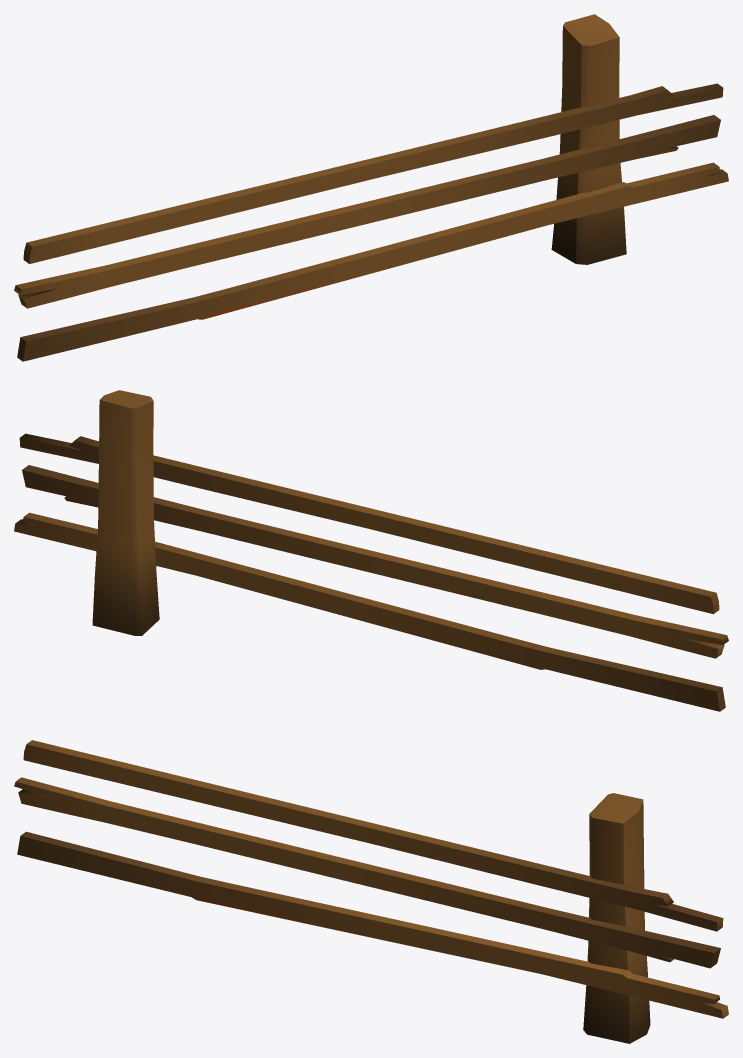
Rendered from RoadFenceWood_Lrg-02.FBX.
The picture shows the model from 3 angles, top to bottom: view 1: azimuth 30°, elevation 25°; view 2: azimuth 150°, elevation 25°; view 3: azimuth 330°, elevation 25°; orthographic projection.
Parts seen in each view (by area): view 1: RoadFenceWood_Lrg-02; view 2: RoadFenceWood_Lrg-02; view 3: RoadFenceWood_Lrg-02.
Part boxes in pixels (x1,y1,x2,y2): RoadFenceWood_Lrg-02: (14,14,728,361); RoadFenceWood_Lrg-02: (14,390,728,711); RoadFenceWood_Lrg-02: (14,740,728,1043).
Bounding box in the file's own units: 462 × 140 × 33.67.
Materials: 1 (1 with a texture image).
